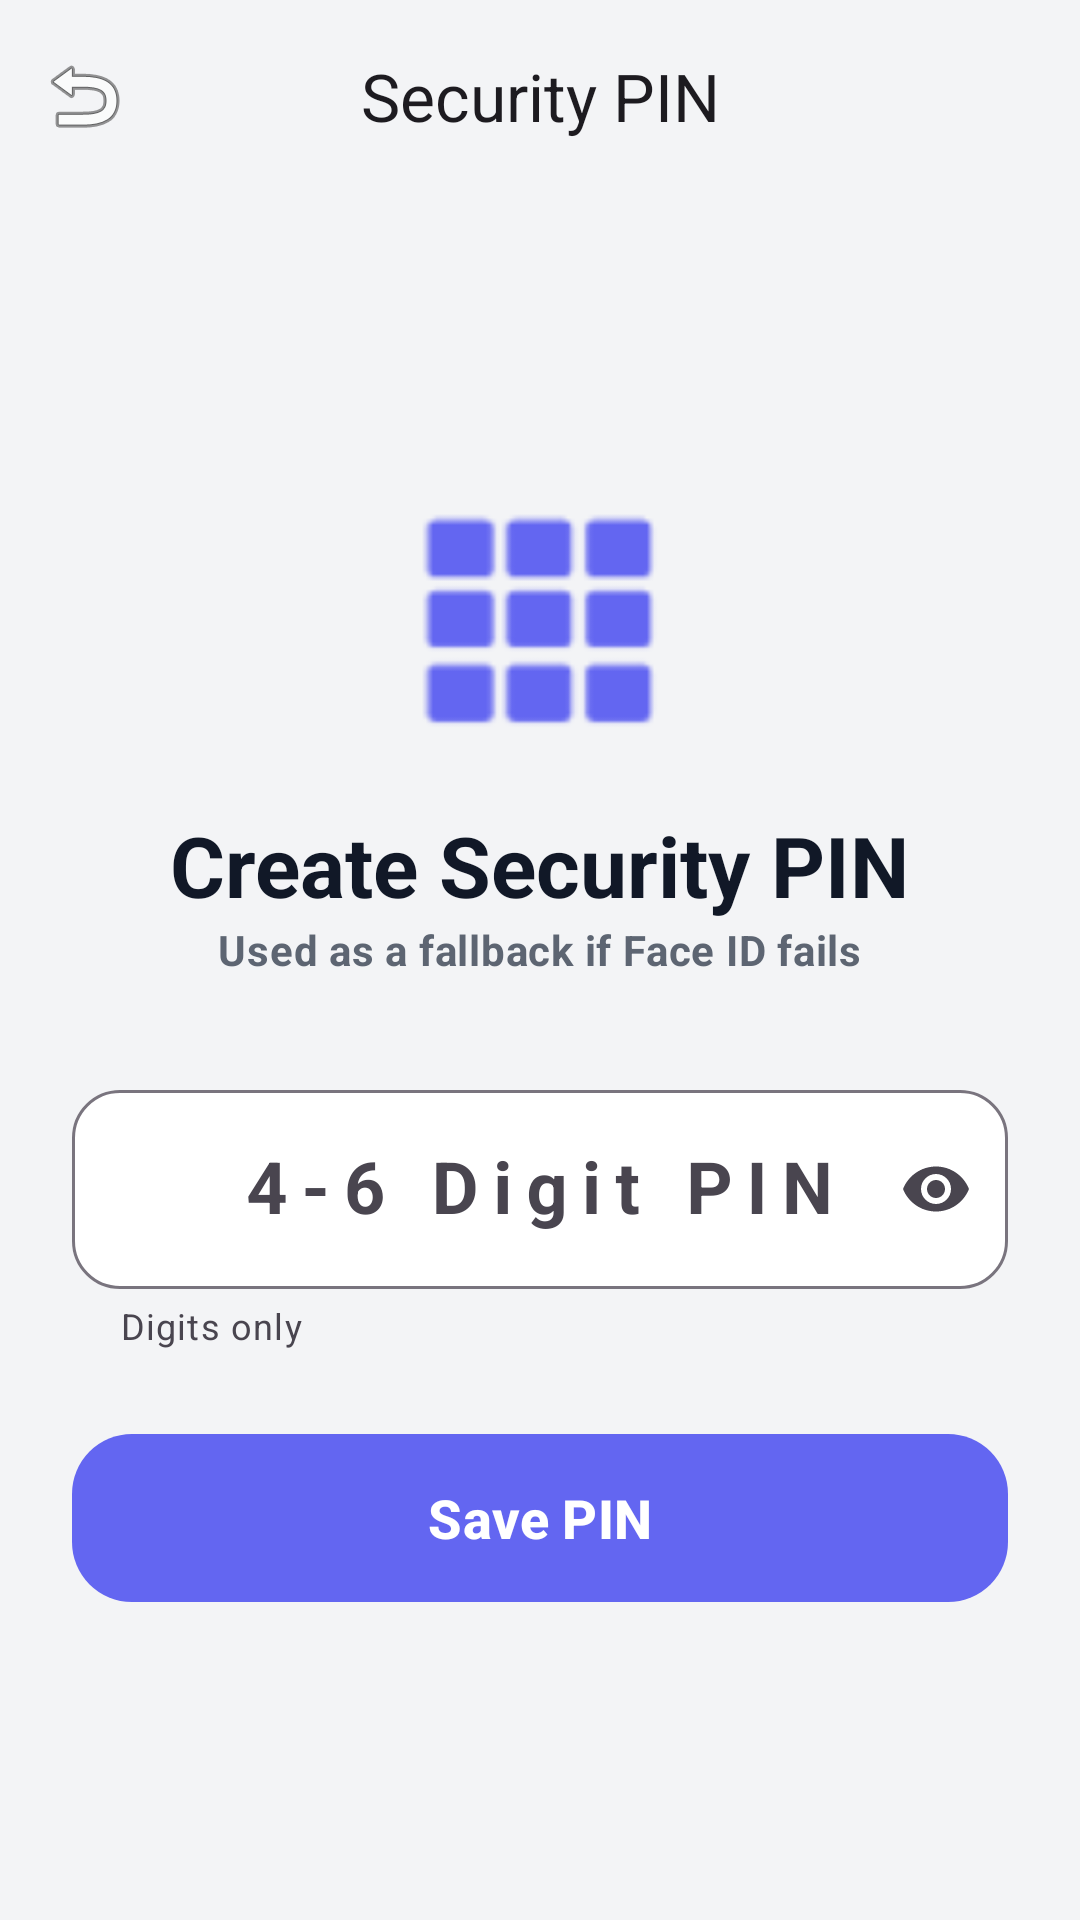

Icons on this 1080×1920 Android screen, each with the point to tap as point (x, y):
dialer: point (538, 620)
